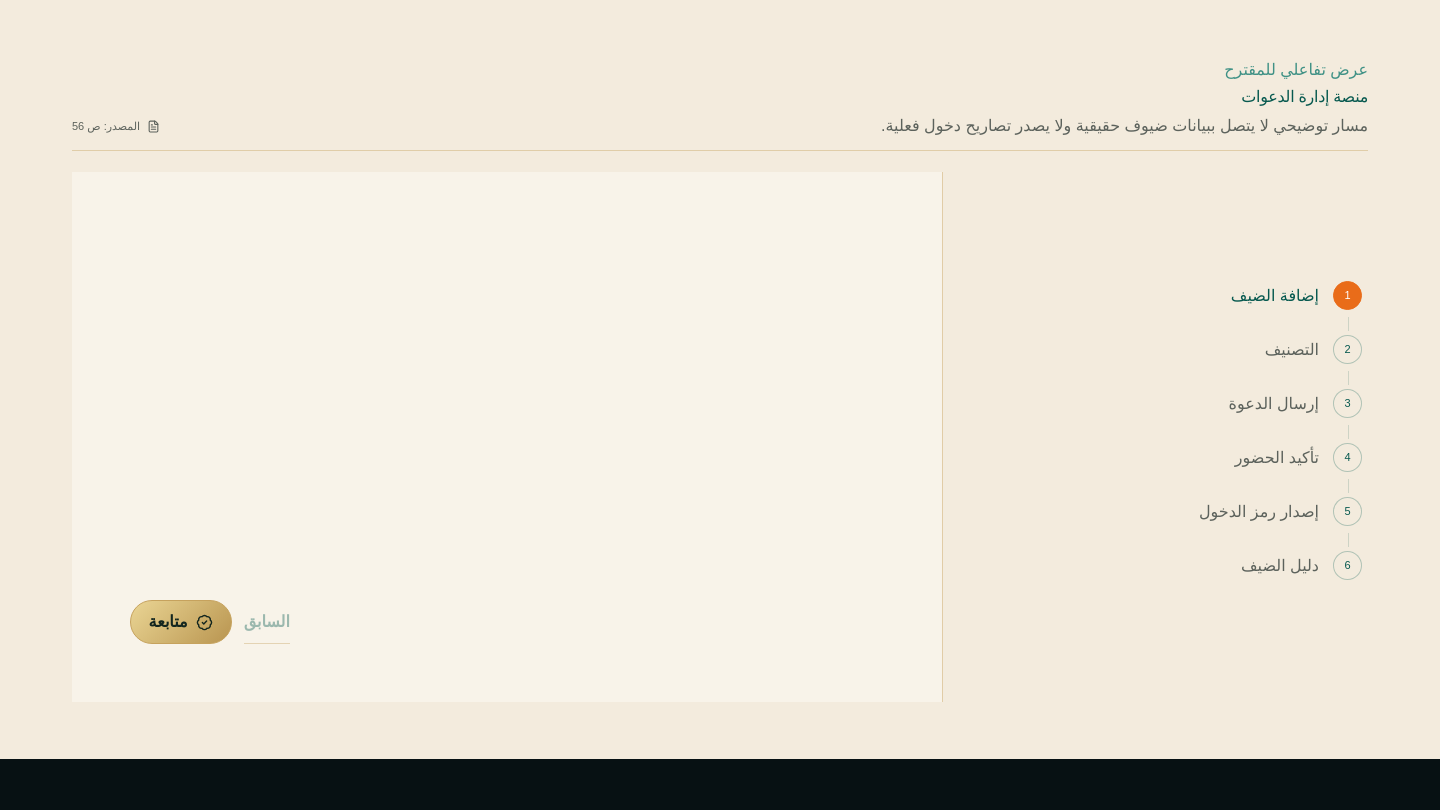
Test: KAGA interactive proposal experiences › completes and restarts the six-step invitation proposal
The width and height of the screenshot is (1440, 810).
Click the button "متابعة": point(181, 622) [130,600,232,644]
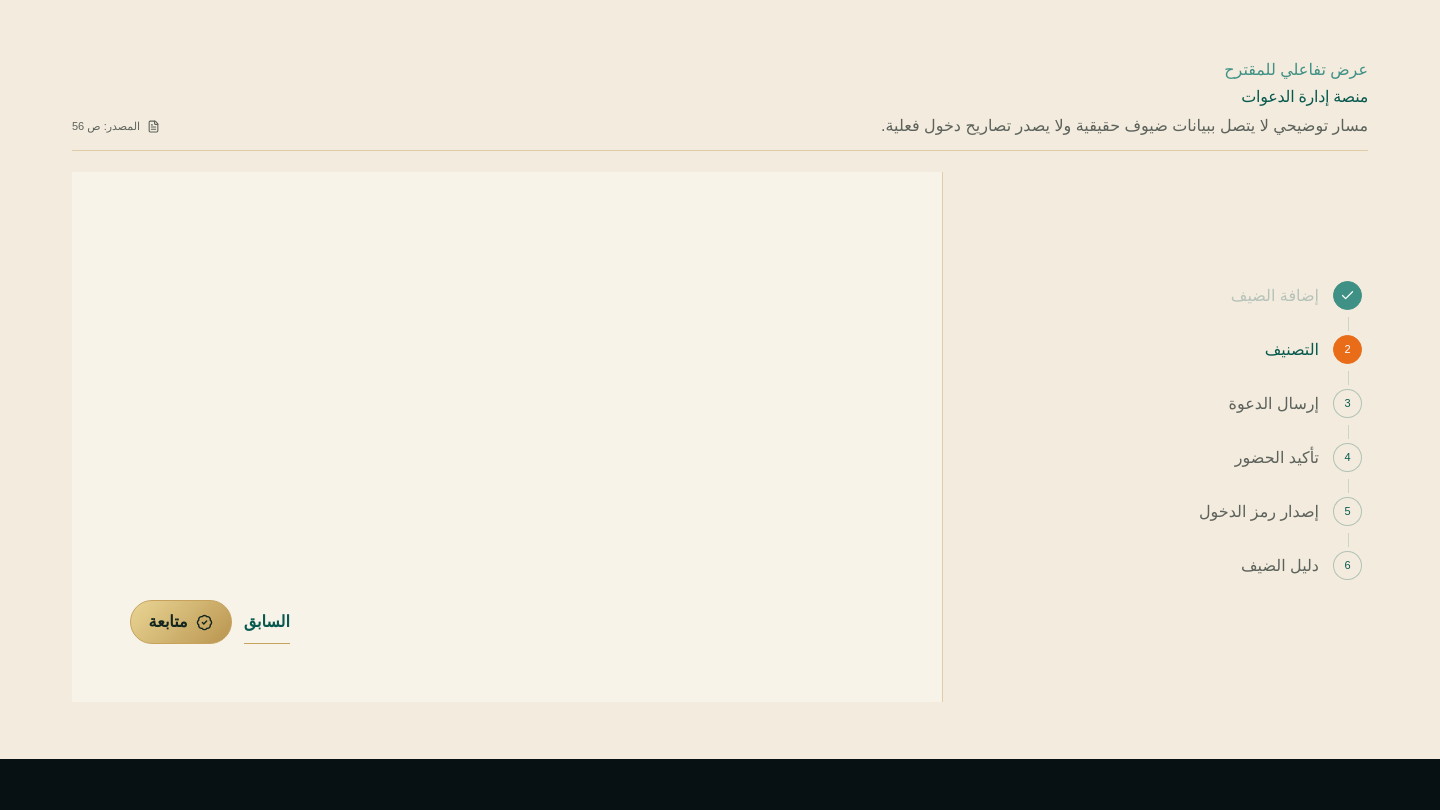
Click the button "متابعة": point(181, 622) [130,600,232,644]
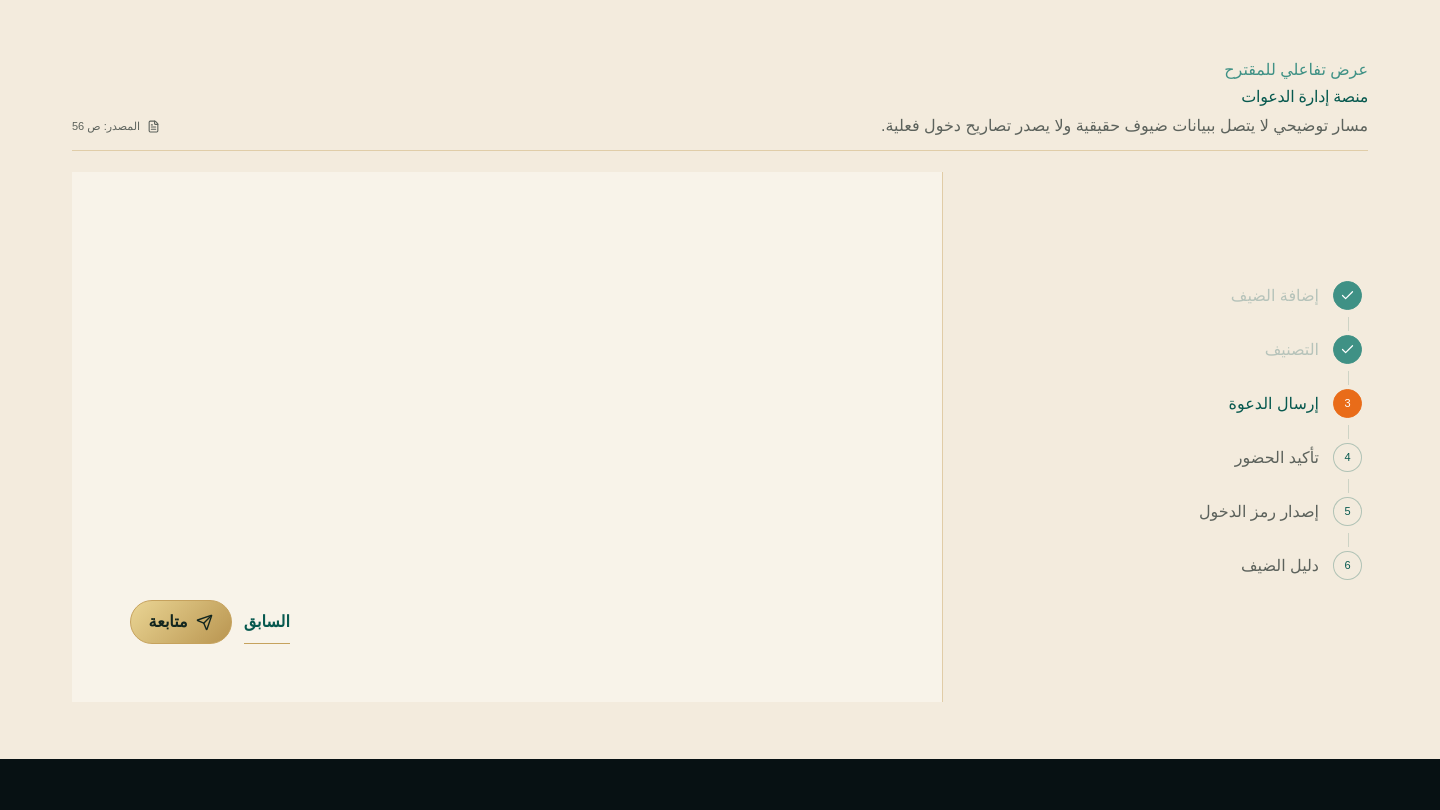
Click the button "متابعة": point(181, 622) [130,600,232,644]
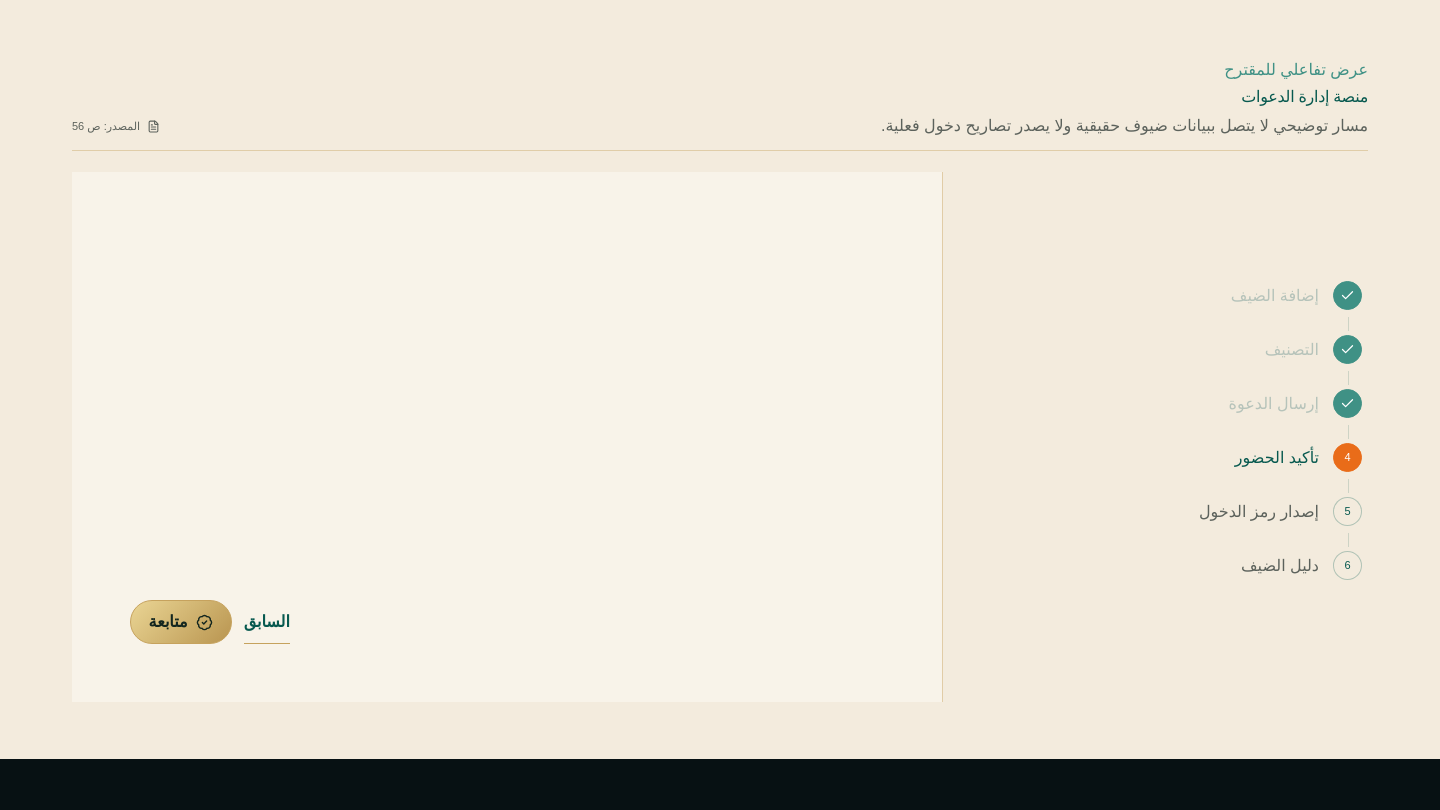
Click the button "متابعة": point(181, 622) [130,600,232,644]
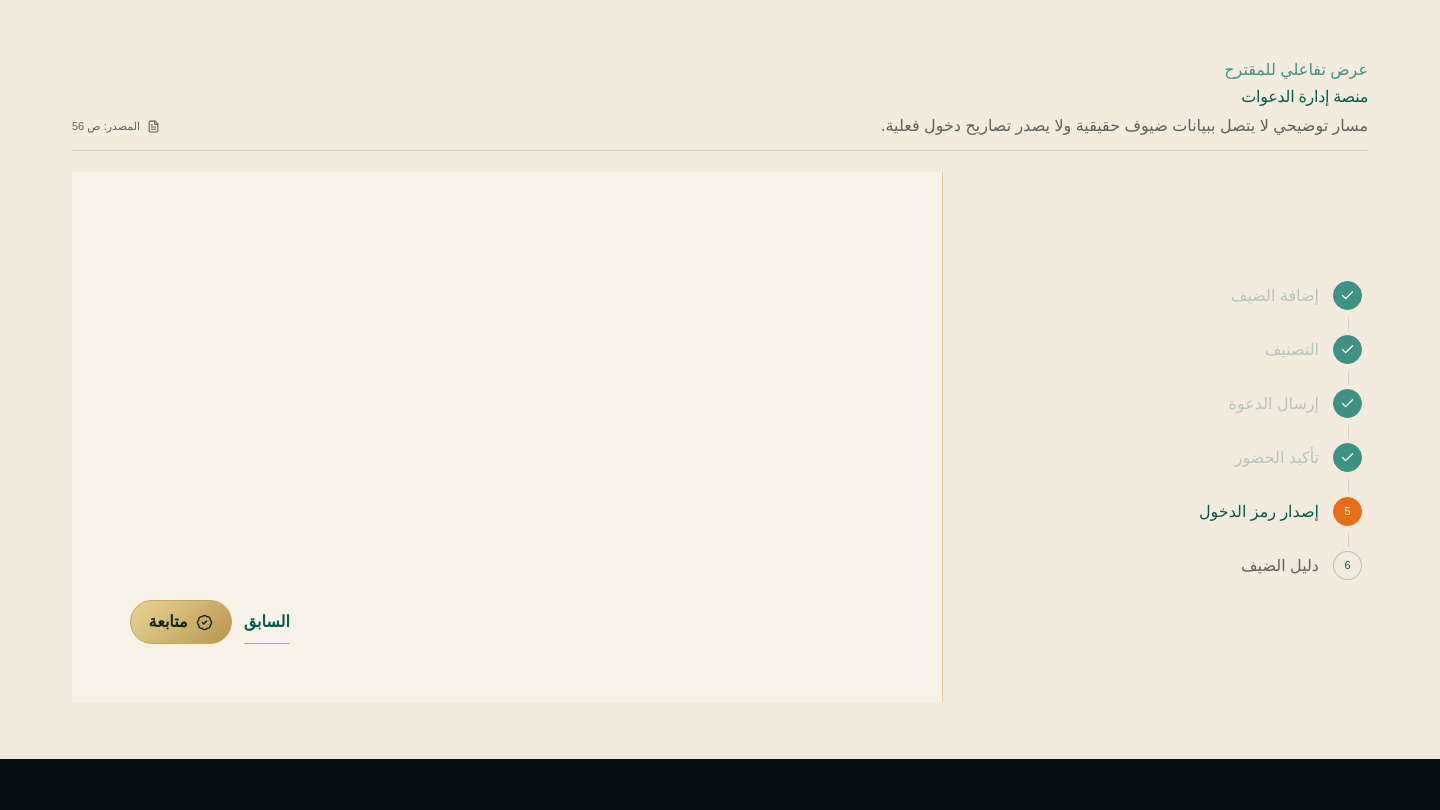
Click the button "متابعة": point(181, 622) [130,600,232,644]
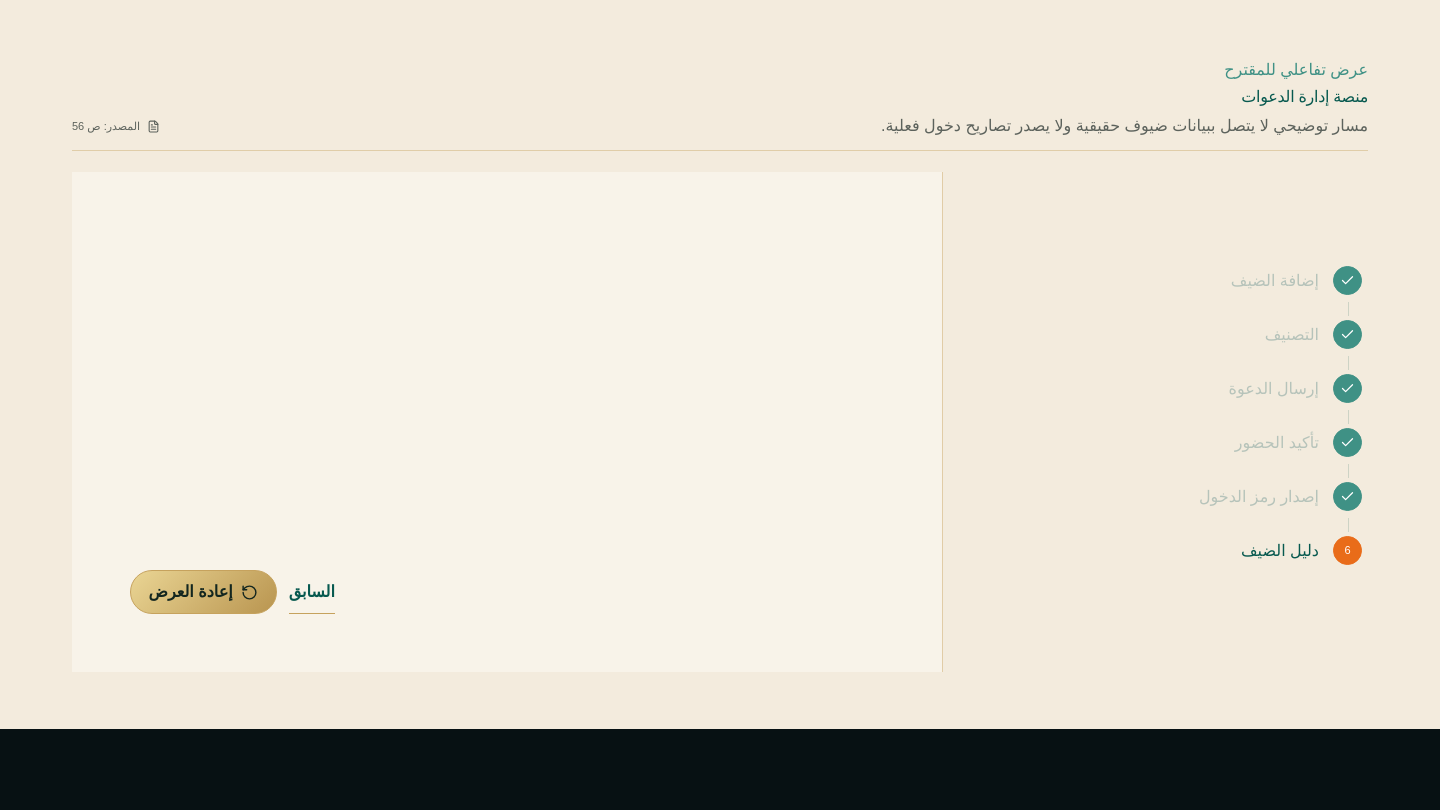
Click the button "إعادة العرض": point(203, 592) [130,570,277,614]
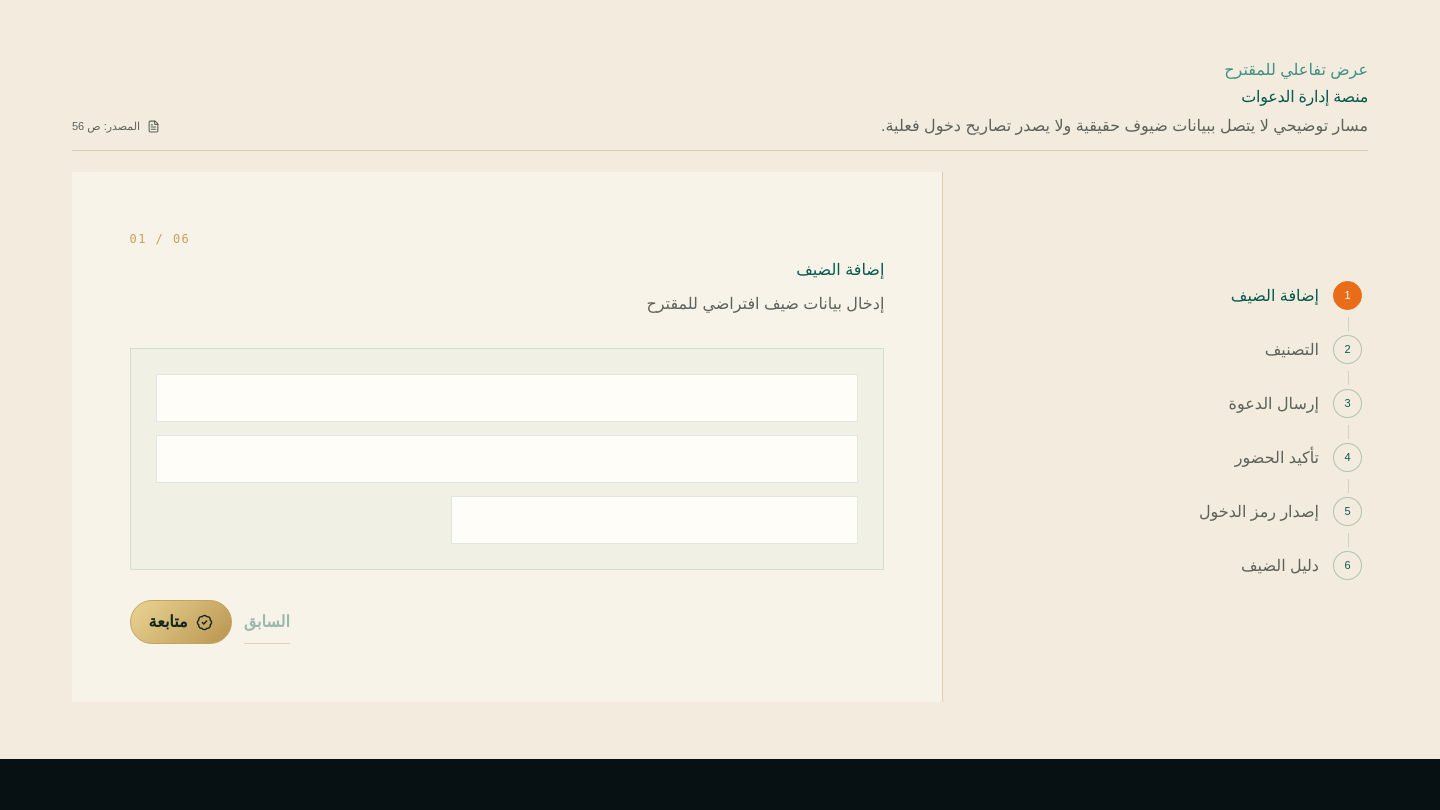
Expected: the text "لا يتصل ببيانات ضيوف حقيقية" is shown, [881,117,1368,134]
Now the heading "إضافة الضيف" is shown, box [796,261,884,278]
